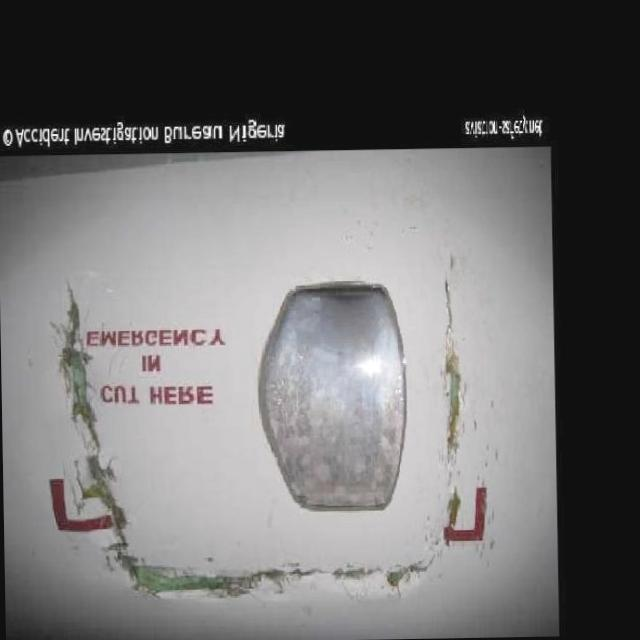crack: (50, 280, 130, 554), (110, 551, 440, 596), (444, 274, 462, 456)
